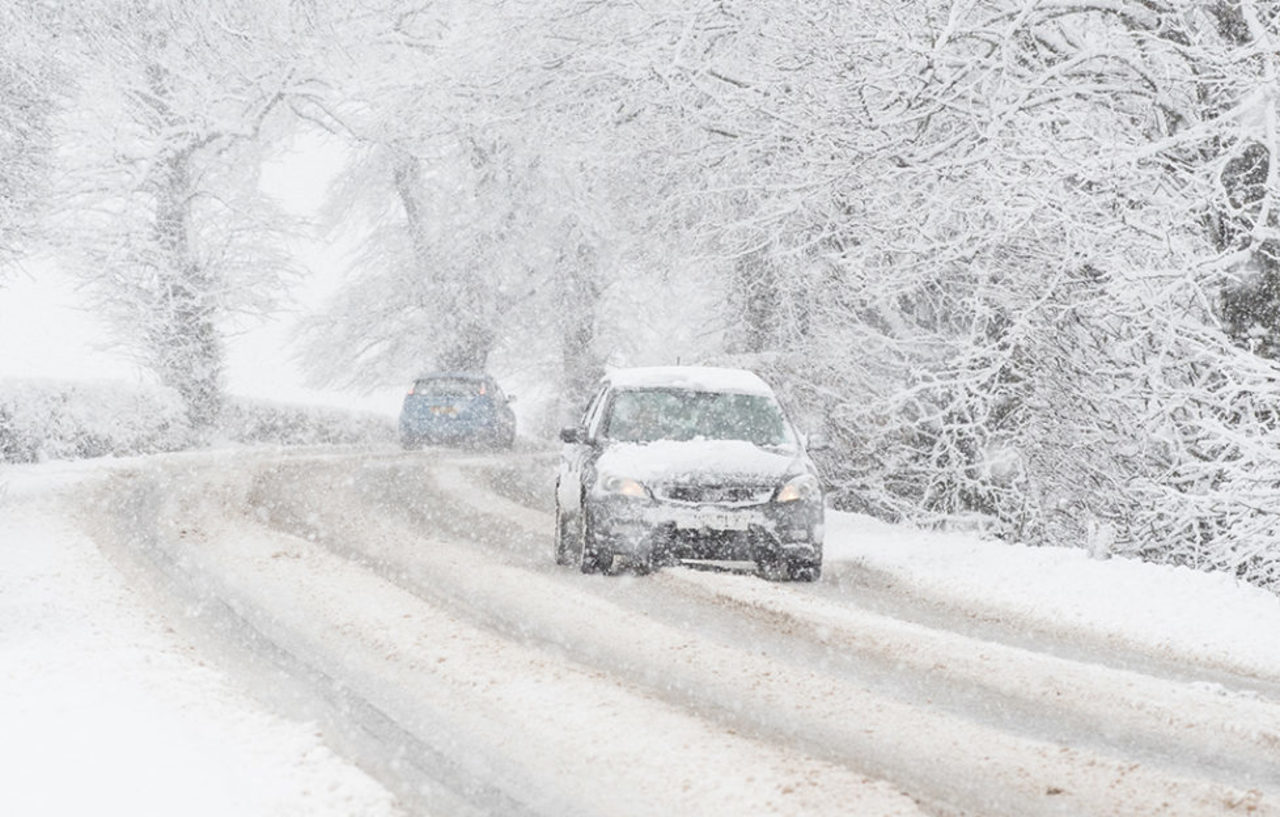car: (557, 366, 824, 581), (398, 375, 517, 449)
